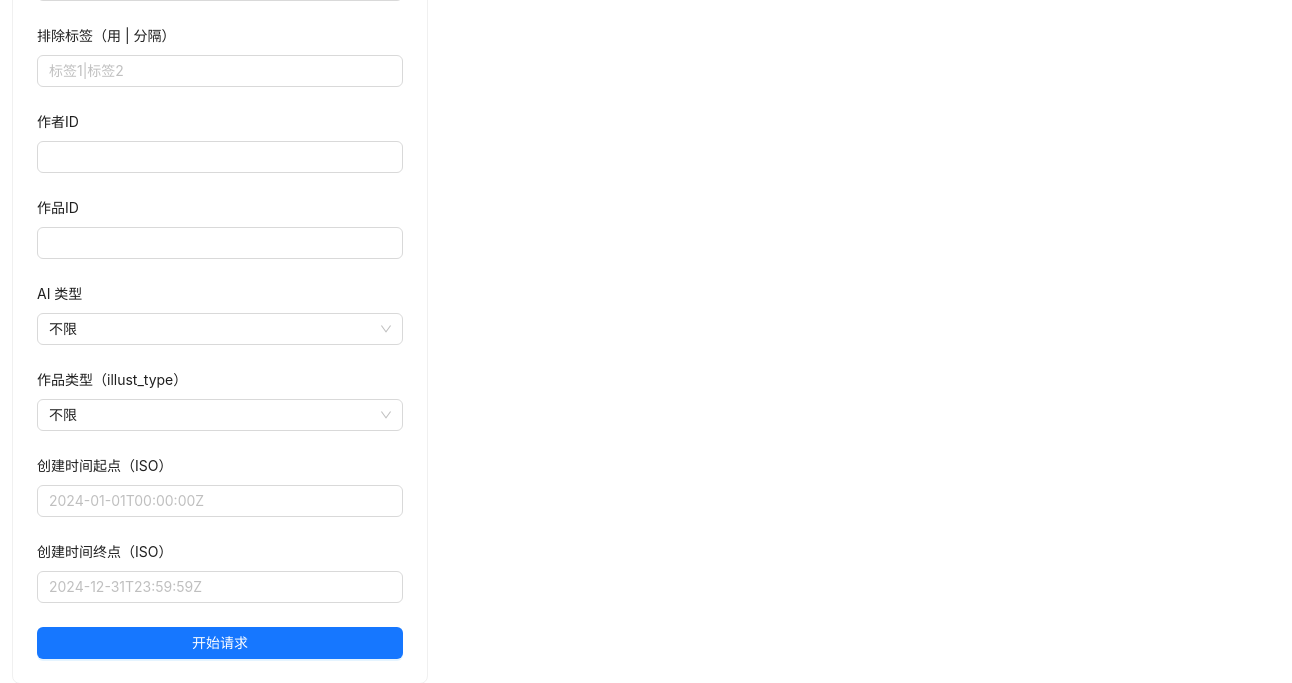
Scenario: PlaygroundPage › shows NO_MATCH hints in image mode and keeps message Chinese
(page scrolled)
Click the button "开始请求" at x=220, y=643, box [37,627,403,659]
(page scrolled)
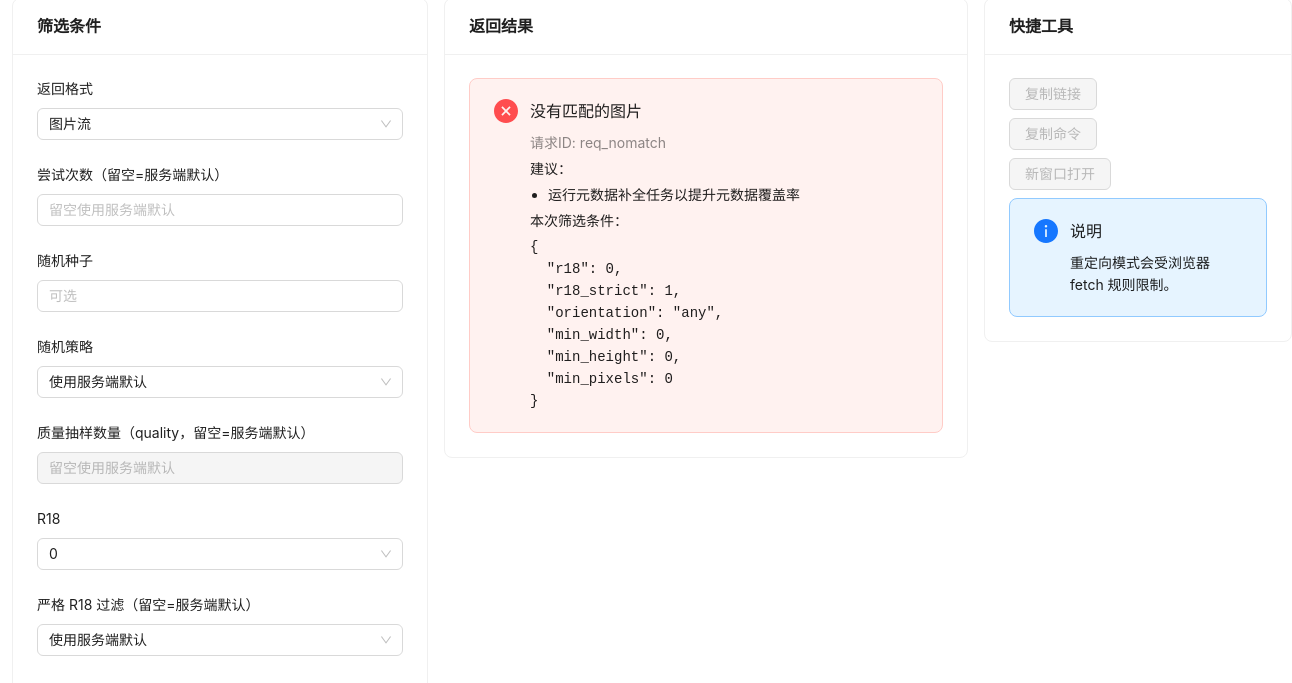
expect the text "没有匹配的图片" is shown: met, box [530,101,642,121]
expect the text "请求ID: req_nomatch" is shown: met, box [530,134,666,151]
expect the list item "运行元数据补全任务以提升元数据覆盖率" is shown: met, box [548,184,800,206]
